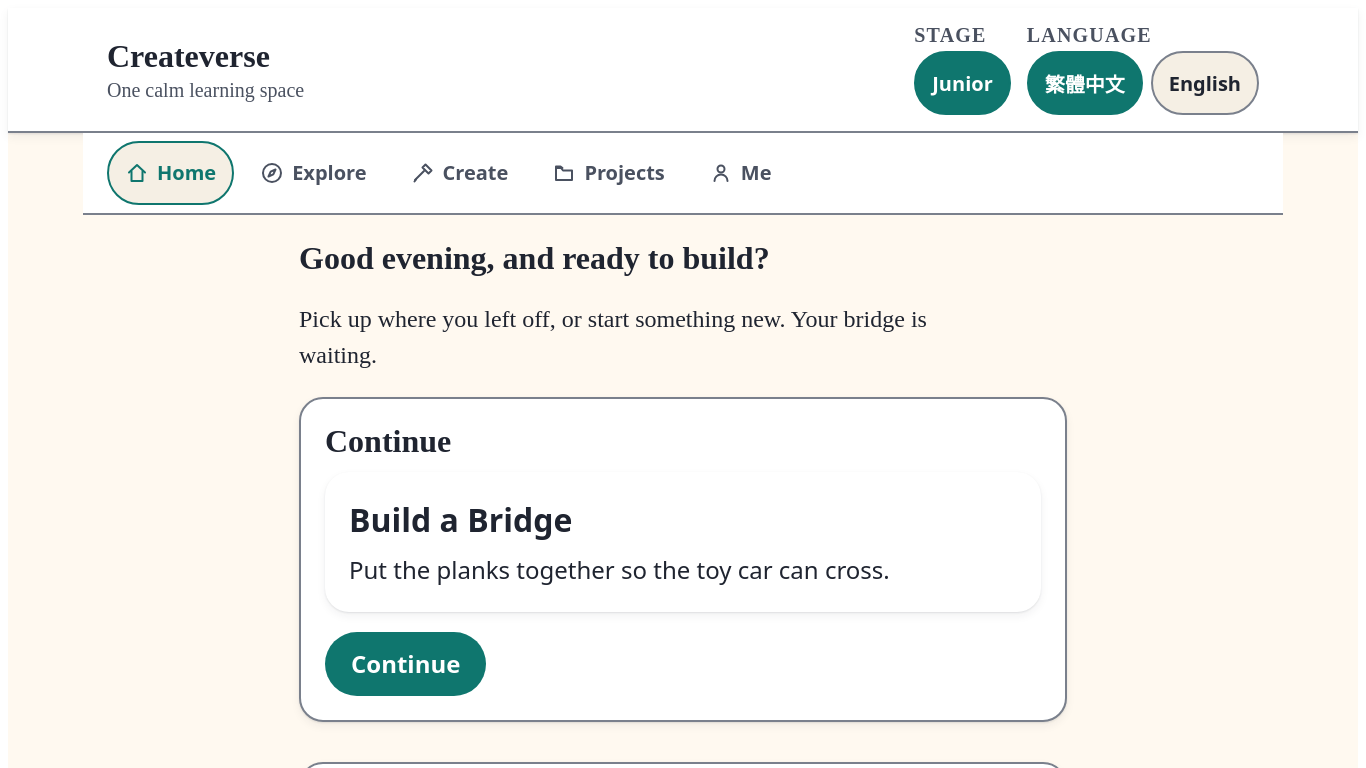
Test: locale switch renders both catalogs (P1-02 acceptance) › switching to zh-Hant re-renders header, nav and page copy
What coordinates should you click on to do the following:
click the button "繁體中文"
I would click on:
 (1085, 83)
Its box is [1027, 51, 1143, 115].
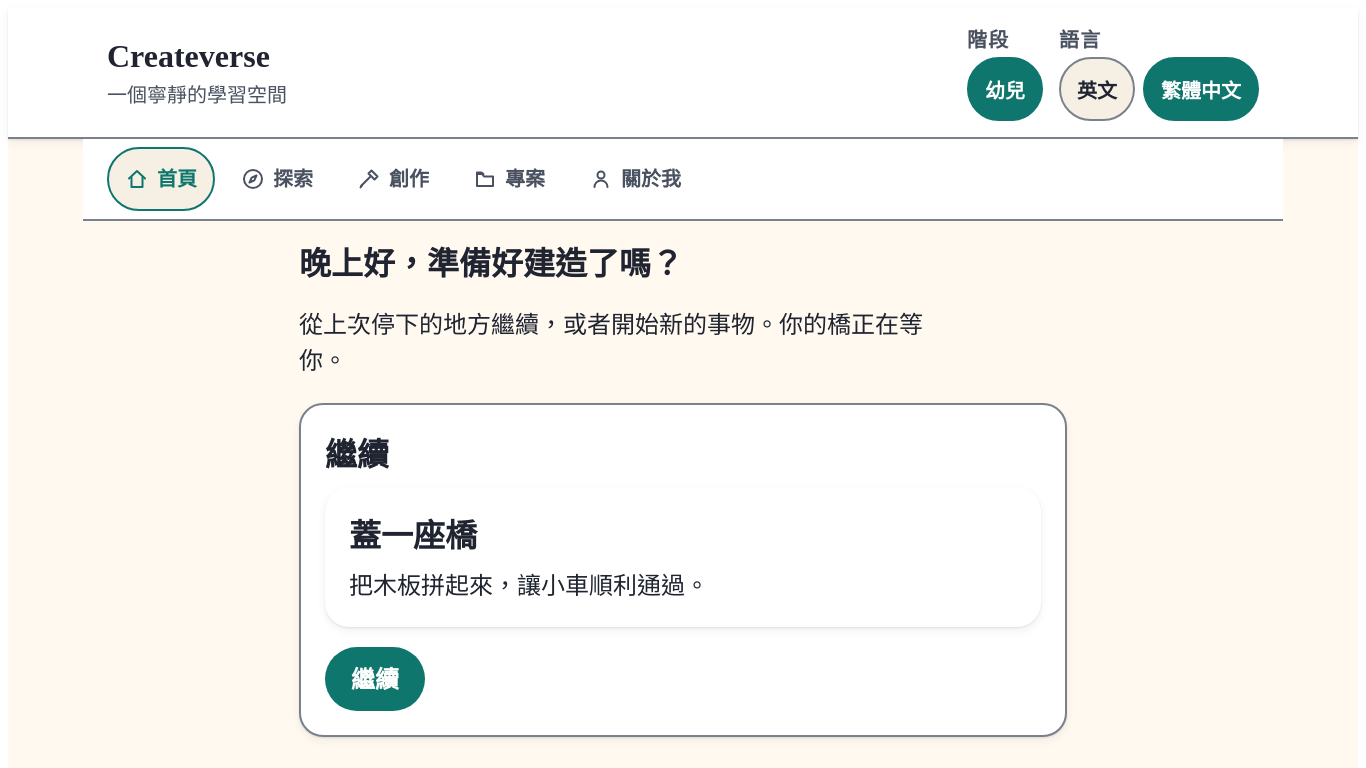
Expected: the text "一個寧靜的學習空間" is shown, [107, 79, 287, 108]
Expected: the text "探索" is shown, [273, 168, 313, 190]
Expected: the text "蓋一座橋" is shown, [349, 513, 477, 556]
